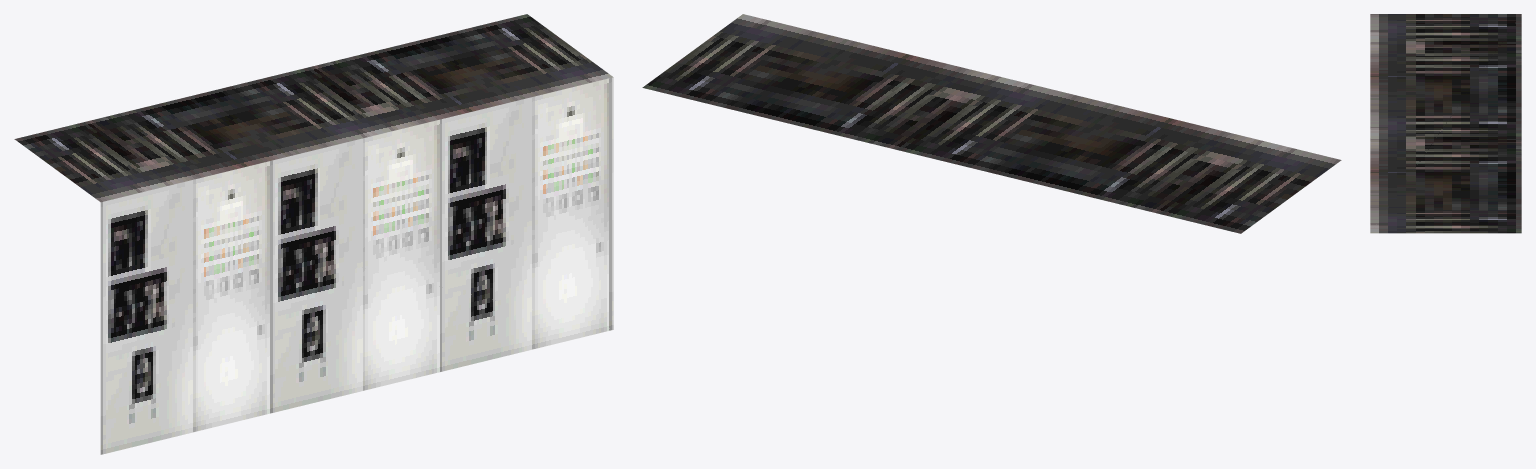
File: Control_machines.glb
3 renders of one model, left to right at view 1: azimuth 30°, elevation 25°; view 2: azimuth 150°, elevation 25°; view 3: azimuth 270°, elevation 25°, orthographic. The views are drawn at different scales.
Visible parts, largest first — view 1: Control_machines; view 2: Control_machines; view 3: Control_machines.
Part boxes in pixels (x1,y1,x2,y2): Control_machines: (14, 14, 613, 454); Control_machines: (642, 14, 1341, 233); Control_machines: (1370, 14, 1521, 233).
Size of the model in its own units: 1252 by 589 by 365.
2 materials, 2 textured.
